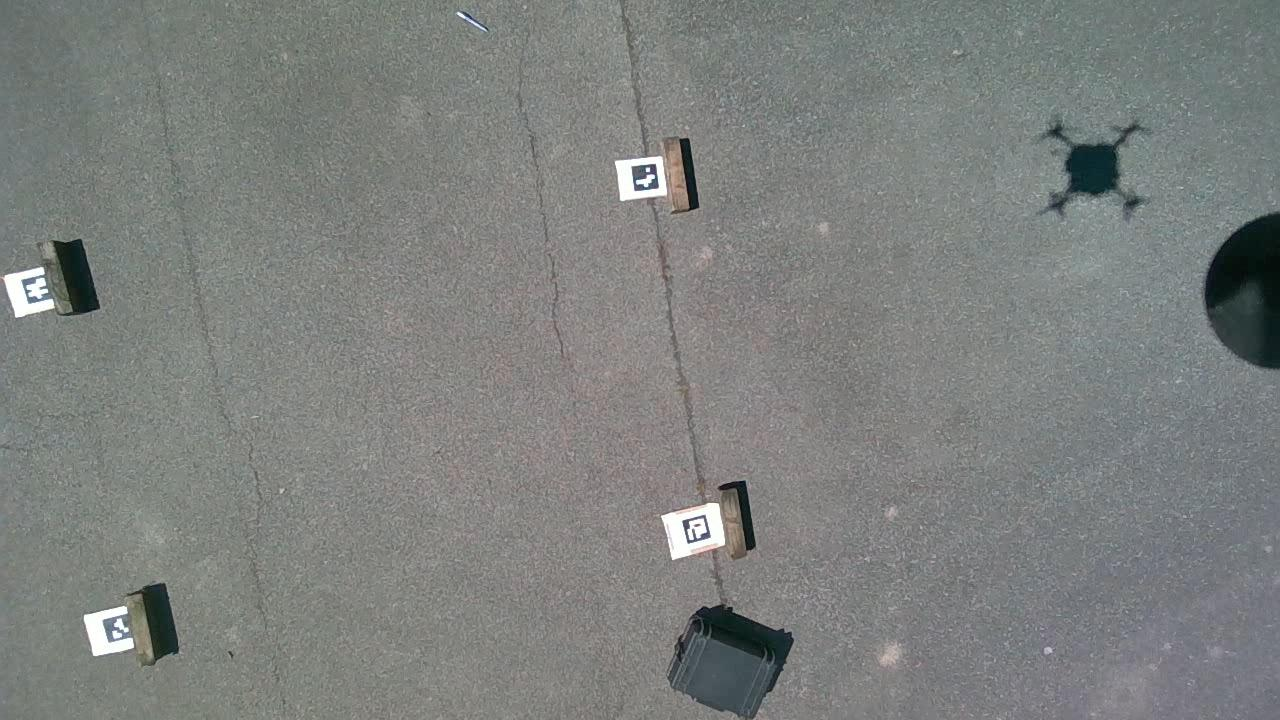probes: (453, 10, 489, 34)
rako: (666, 612, 780, 720)
